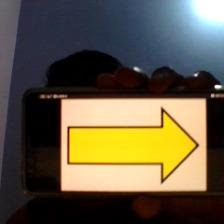right: (66, 107, 200, 185)
